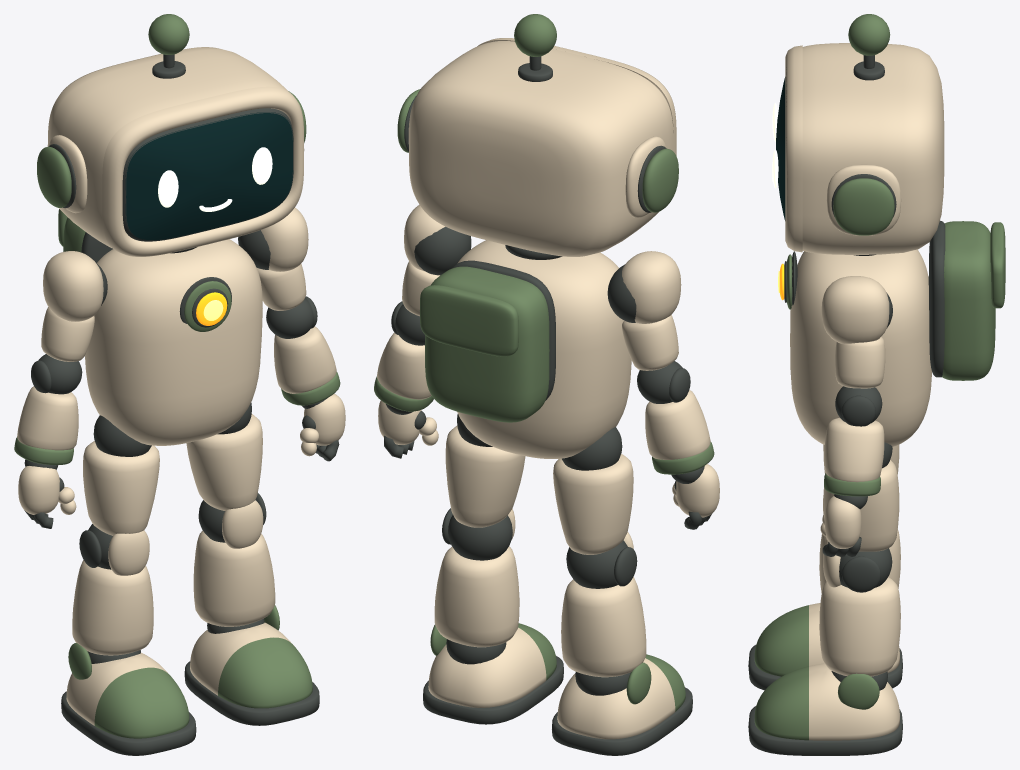
Rendered from robot.glb.
3 renders of one model, left to right at view 1: azimuth 30°, elevation 25°; view 2: azimuth 150°, elevation 25°; view 3: azimuth 270°, elevation 25°, orthographic. The views are drawn at different scales.
Parts seen in each view (by area): view 1: TorsoShell, VisorLens, HeadShell, FaceBezel, FootShellL, FootShellR, ShinShellR, ShinShellL, ThighShellR, ThighShellL, ShoulderCapR, ForearmShellR (+27 smaller); view 2: HeadShell, TorsoShell, BackpackBody, ShinShellR, ShinShellL, FootShellL, ThighShellR, FootShellR, ThighShellL, BackpackFlap, ForearmShellR, ShoulderCapR (+27 smaller); view 3: HeadShell, TorsoShell, BackpackBody, FootShellL, ShinShellL, ShoulderCapL, FootShellR, FaceBezel, ForearmShellL, EarCapL, FootSoleL, ThighShellL (+17 smaller).
Part boxes in pixels (<box>): TorsoShell: <box>85,239,262,445</box>; VisorLens: <box>125,112,293,240</box>; HeadShell: <box>47,47,287,247</box>; FaceBezel: <box>102,86,304,256</box>; FootShellL: <box>190,622,312,708</box>; FootShellR: <box>66,652,189,738</box>; ShinShellR: <box>72,560,153,655</box>; ShinShellL: <box>193,530,275,626</box>; ThighShellR: <box>83,441,159,535</box>; ThighShellL: <box>186,414,262,510</box>; ShoulderCapR: <box>43,251,103,321</box>; ForearmShellR: <box>17,386,78,450</box>; HeadShell: <box>409,41,673,256</box>; TorsoShell: <box>457,240,631,458</box>; BackpackBody: <box>425,266,549,422</box>; ShinShellR: <box>561,577,646,677</box>; ShinShellL: <box>434,546,519,647</box>; FootShellL: <box>428,623,556,707</box>; ThighShellR: <box>553,454,633,554</box>; FootShellR: <box>557,654,685,739</box>; ThighShellL: <box>445,426,525,527</box>; BackpackFlap: <box>419,285,518,356</box>; ForearmShellR: <box>645,390,710,459</box>; ShoulderCapR: <box>622,251,681,323</box>; HeadShell: <box>802,43,944,254</box>; TorsoShell: <box>790,249,931,446</box>; BackpackBody: <box>942,221,995,380</box>; FootShellL: <box>754,663,899,740</box>; ShinShellL: <box>819,577,900,676</box>; ShoulderCapL: <box>821,276,889,343</box>; FootShellR: <box>754,603,899,676</box>; FaceBezel: <box>785,45,802,252</box>; ForearmShellL: <box>824,418,884,482</box>; EarCapL: <box>833,178,894,235</box>; FootSoleL: <box>748,706,902,755</box>; ThighShellL: <box>823,460,899,551</box>.
Bounding box in the file's own units: 0.72 × 1.45 × 0.4905.
